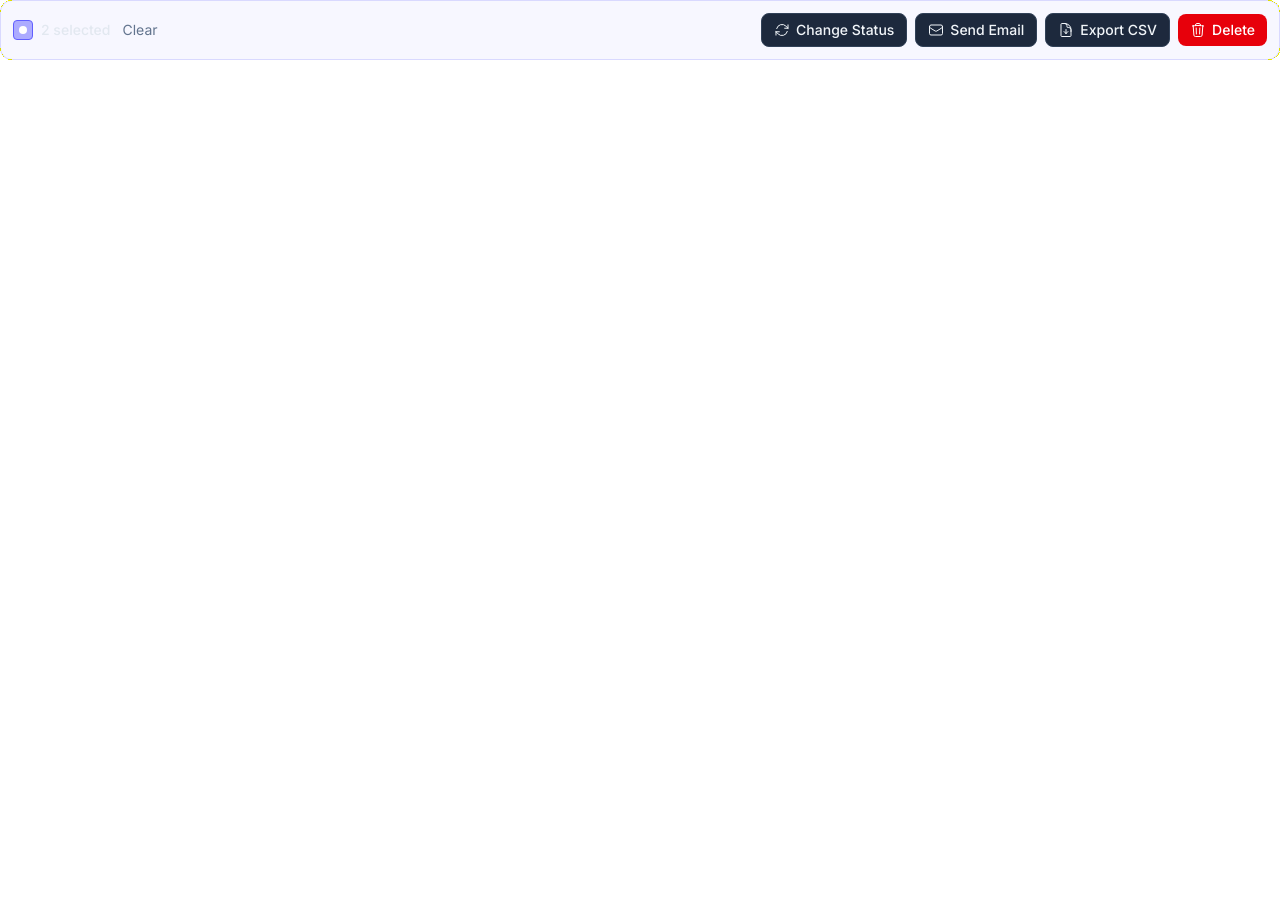
Test: BulkActions › opens status change modal when change status clicked
# Click the first Change Status button (the one in the main toolbar)
Click the button "Change Status". click: (834,30)
box: [761,13,907,47]
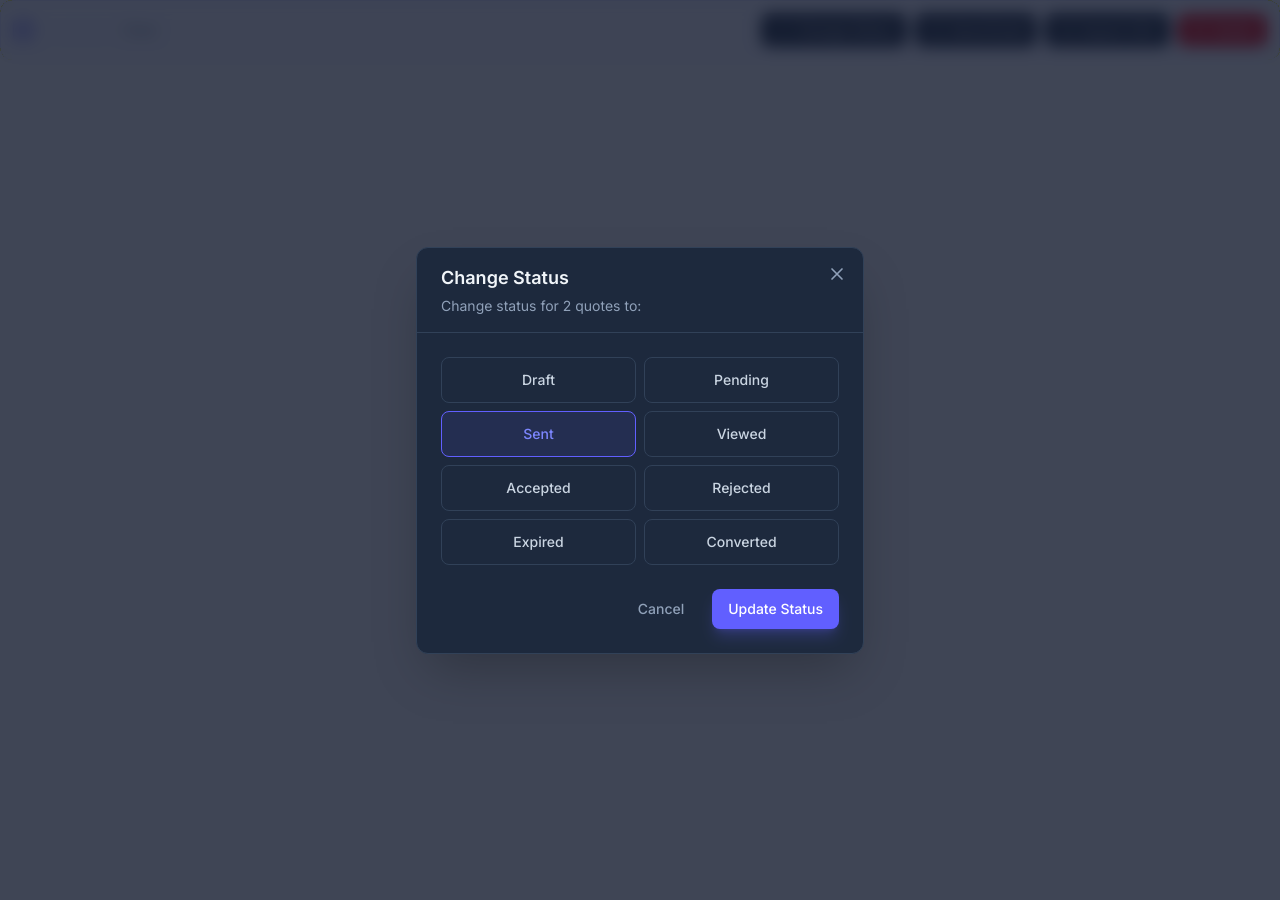
Expected: the button "Draft" is shown, [441,356,636,402]
Expected: the button "Sent" is shown, [441,410,636,456]
